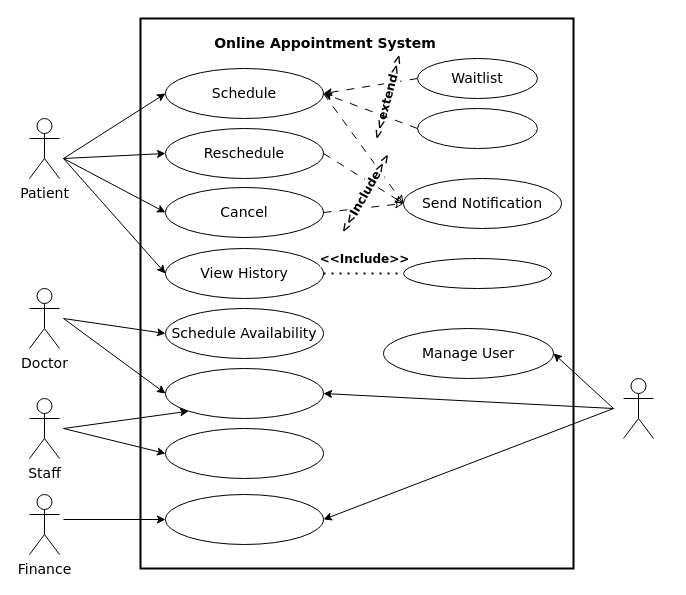
Some shapes in this 686 by 595 pixel diagram are drawn without their labels. The shapes that lost their labels are listed below. From the top down, each one's box as (x1, y1, x2, y2) in pixels, then its label:
(416, 108, 538, 148): Urgent
(402, 258, 552, 288): User Profile
(164, 368, 324, 418): Appointment Report
(622, 378, 654, 438): Manager
(164, 428, 324, 478): Create Schedule
(164, 494, 324, 544): Finance Reports
